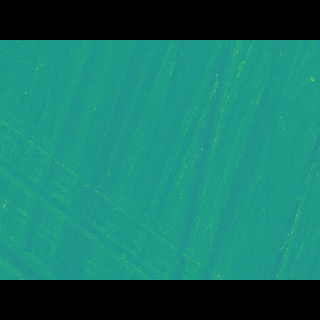Loch: (0, 118, 244, 251), (165, 69, 244, 251)
